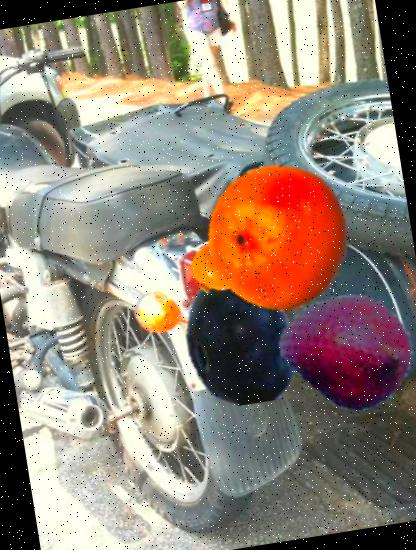Blueberry: (164, 262, 316, 414)
Grapefruit: (196, 155, 362, 321)
Physalis: (185, 237, 246, 298)
Salak: (277, 275, 416, 421)
